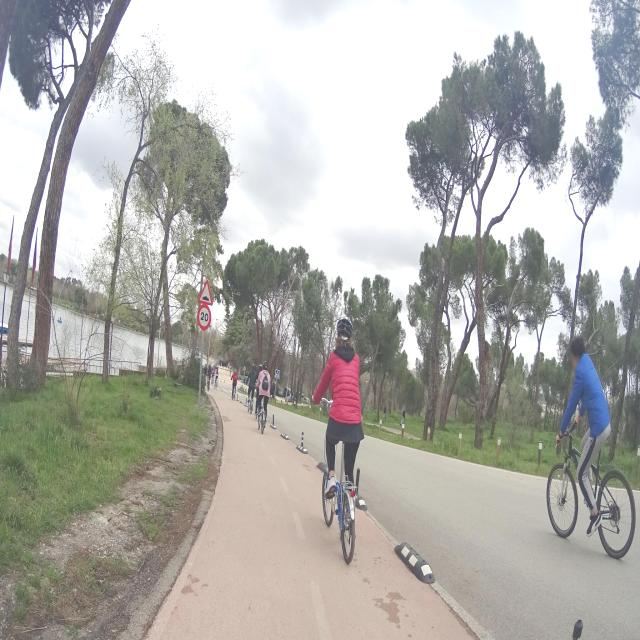bike: (547, 424, 636, 559), (319, 395, 364, 567)
